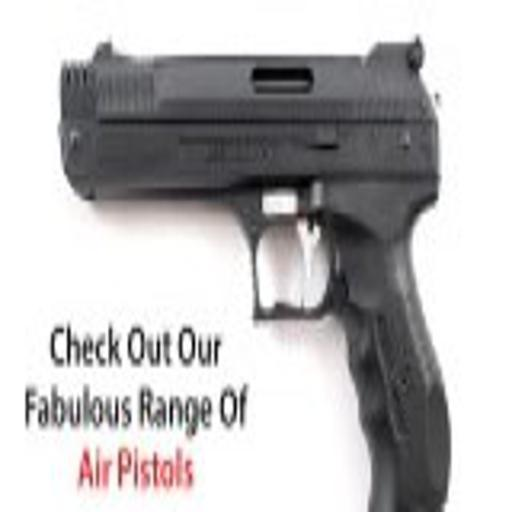Handgun: (56, 37, 453, 511)
